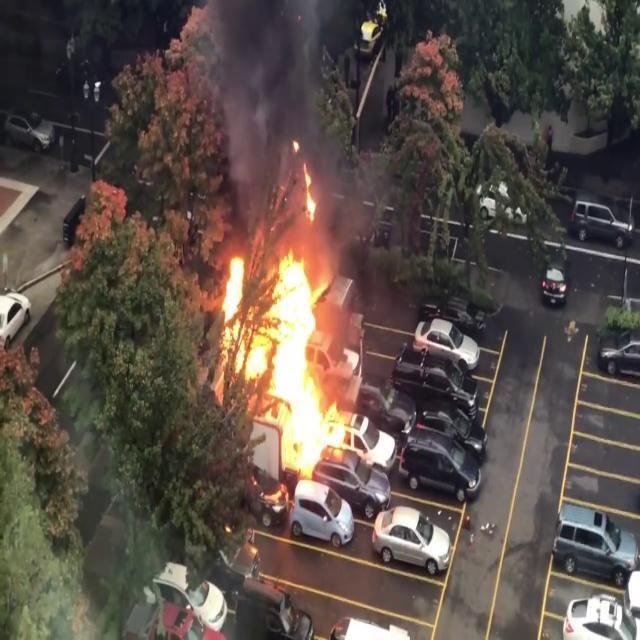Fire: (212, 160, 364, 492)
Smoke: (194, 0, 342, 208)
